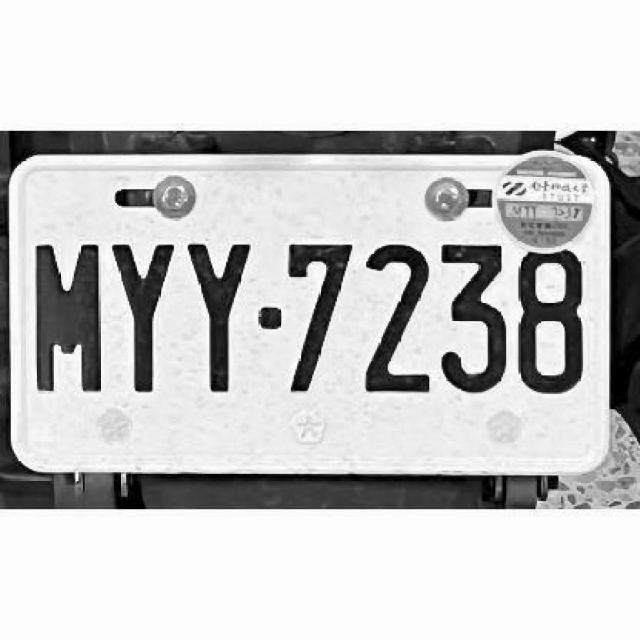-: (258, 305, 280, 326)
2: (358, 234, 436, 400)
3: (438, 238, 511, 397)
7: (282, 231, 352, 397)
8: (512, 241, 585, 397)
M: (31, 235, 103, 391)
Y: (109, 234, 182, 394), (184, 235, 256, 394)
